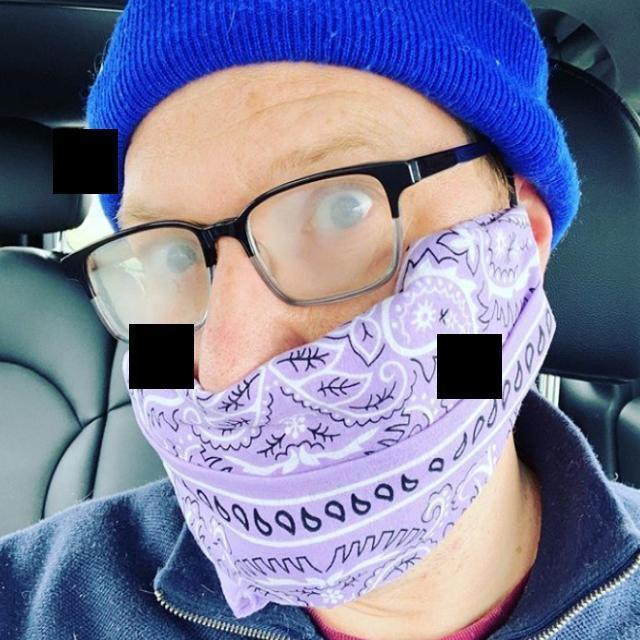hairnet: (87, 200, 567, 618)
